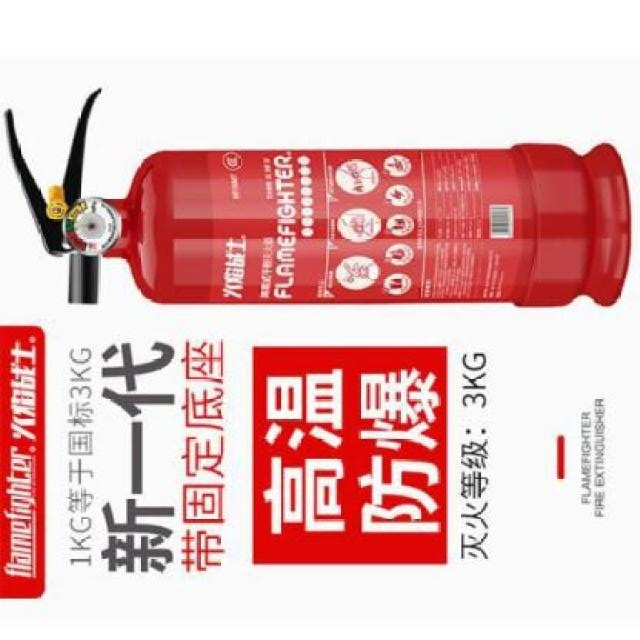fire extinguisher: (3, 87, 632, 308)
